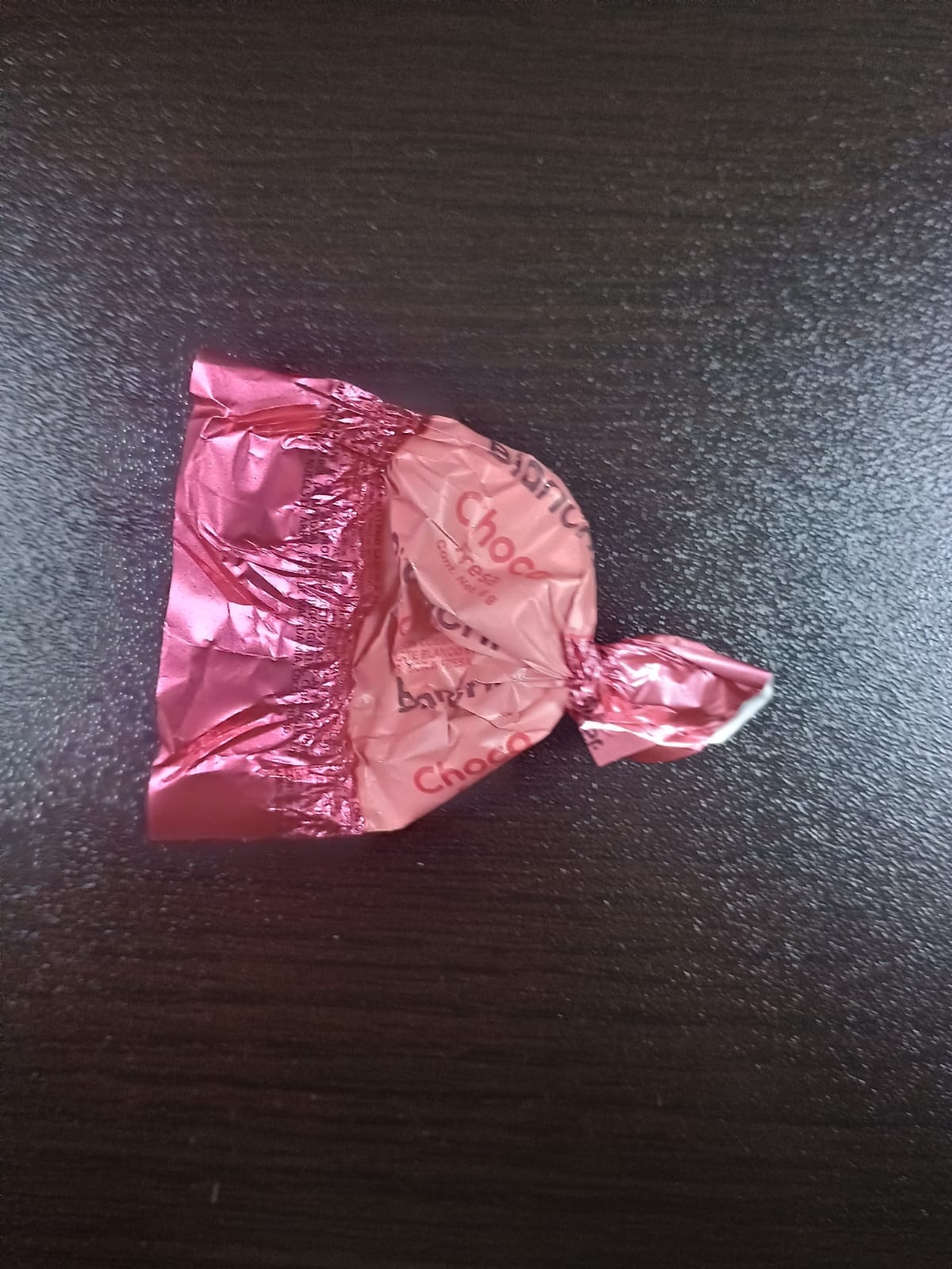Ordinario: (145, 335, 781, 844)
